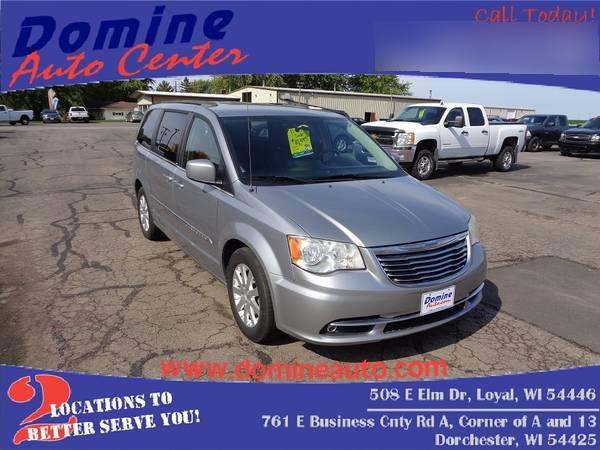Front_Bumper: (269, 243, 490, 342)
Front_Fender: (218, 182, 310, 277)
Front_Right_Door: (171, 167, 225, 279)
Front_Right_Window: (177, 112, 230, 190)
Front_Windshield: (223, 117, 412, 188)
Grille: (359, 228, 470, 286)
Hood: (246, 174, 473, 245)
Left_Headlight: (468, 210, 480, 243)
Rear_Fender: (134, 106, 164, 189)
Rear_Right_Door: (139, 151, 177, 240)
Rear_Right_Window: (149, 110, 191, 169)
Right_Headlight: (288, 234, 368, 274)
Roof: (145, 103, 347, 187)
Wheel: (225, 248, 273, 344), (133, 191, 150, 240)
